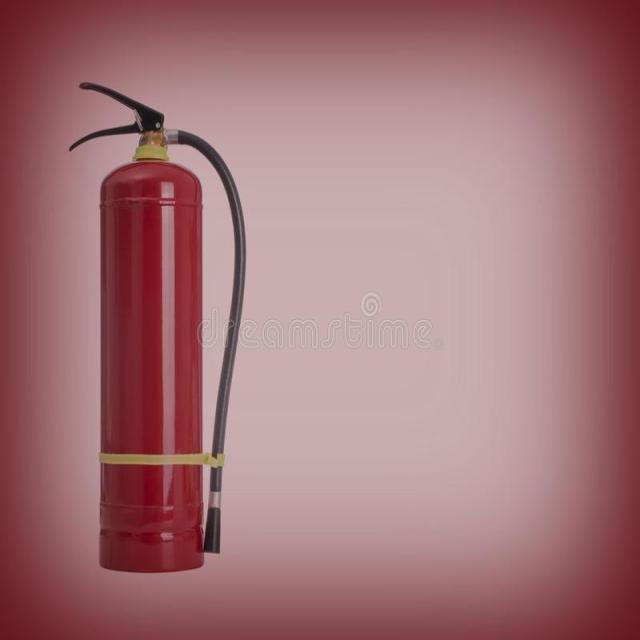fire_extinguisher: (58, 74, 253, 578)
